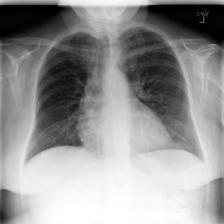normal: (24, 24, 207, 166)
